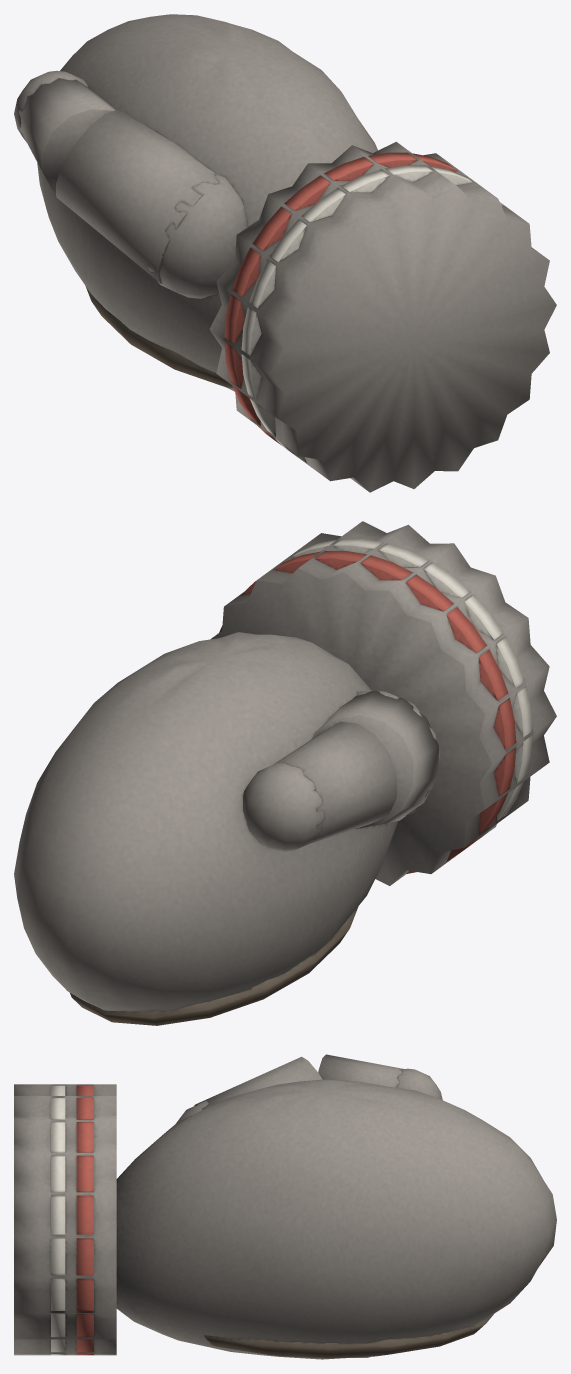
Rendered from fp_mitten_r.glb.
The picture shows the model from 3 angles, top to bottom: view 1: azimuth 30°, elevation 25°; view 2: azimuth 150°, elevation 25°; view 3: azimuth 270°, elevation 25°; orthographic projection. The views are drawn at different scales.
Parts seen in each view (by area): view 1: fp_mitten_r; view 2: fp_mitten_r; view 3: fp_mitten_r.
Boxes of the visible parts, bbox=[...] form: fp_mitten_r: bbox=[14, 14, 556, 492]; fp_mitten_r: bbox=[14, 521, 556, 1025]; fp_mitten_r: bbox=[14, 1054, 556, 1359].
Bounding box in the file's own units: 0.1086 × 0.1 × 0.1902.
Materials: 1 (1 with a texture image).
